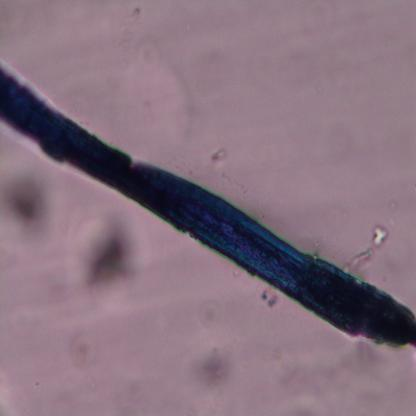Background material: (73, 205, 139, 293), (0, 162, 68, 233), (183, 339, 238, 393), (66, 332, 96, 366), (196, 291, 219, 333), (346, 244, 376, 273), (370, 220, 389, 248), (138, 43, 158, 69), (259, 287, 278, 310), (209, 148, 230, 162), (127, 5, 146, 19)
Cotton: (0, 64, 416, 350)
